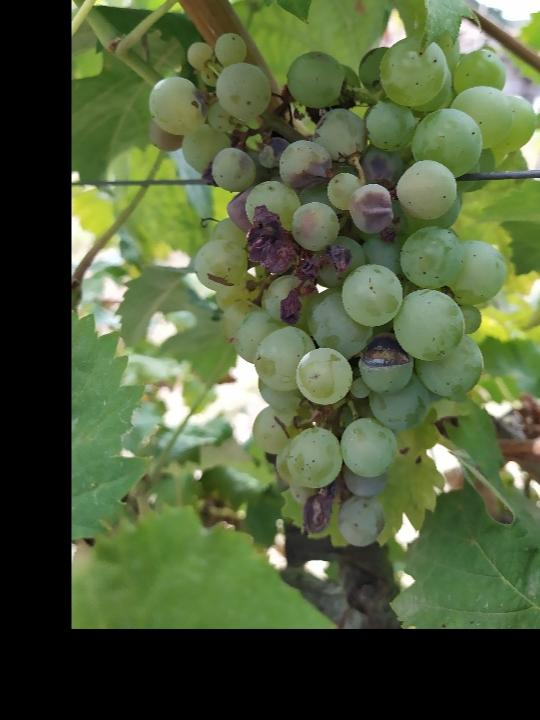grape: (145, 31, 538, 549)
